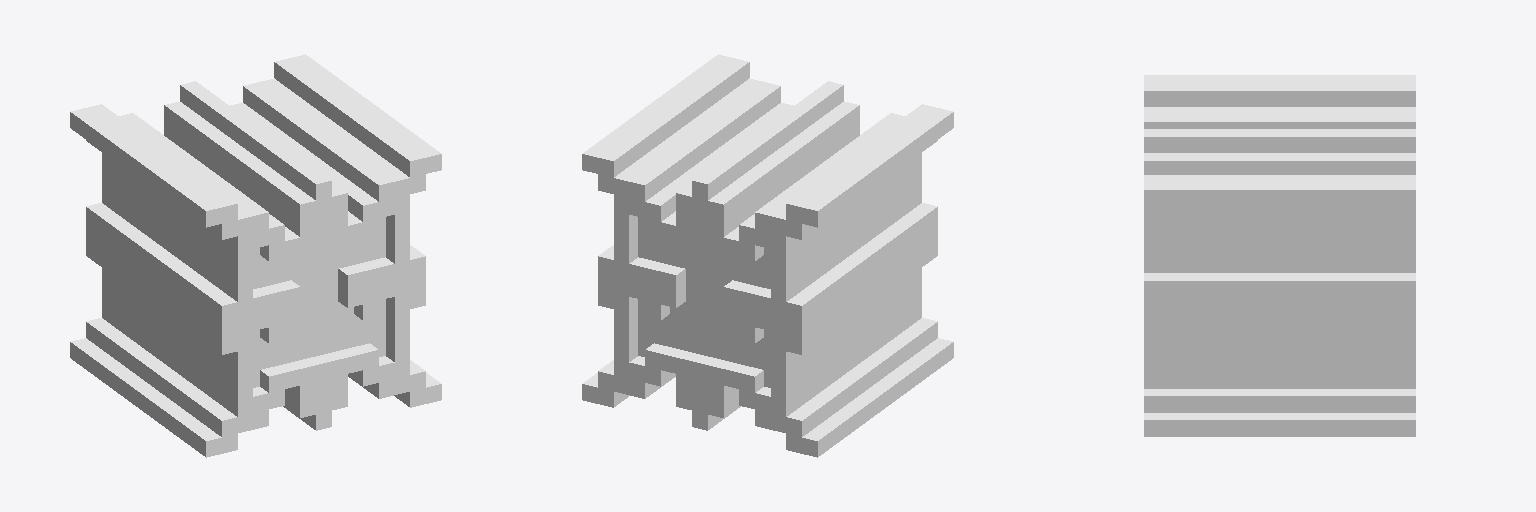
File: enemy02.obj
3 renders of one model, left to right at view 1: azimuth 30°, elevation 25°; view 2: azimuth 150°, elevation 25°; view 3: azimuth 270°, elevation 25°, orthographic.
Bounding box in the file's own units: 15 × 15 × 15.